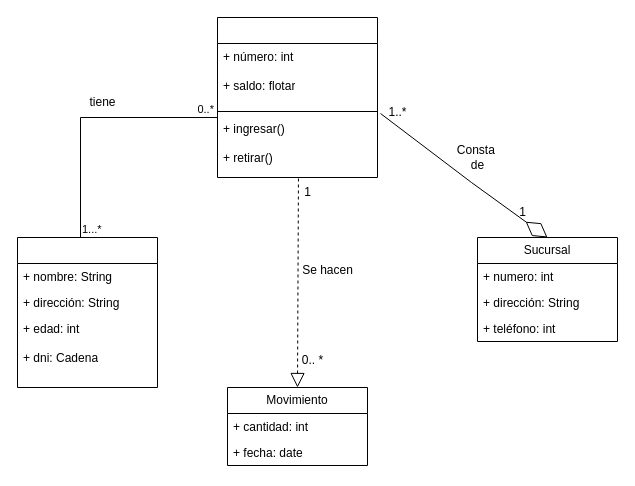
This 635x486 diagram has some shape labels left out. Each missing label, with the box of its shape:
Cliente: (16, 236, 158, 388)
Cuenta: (216, 16, 378, 178)
